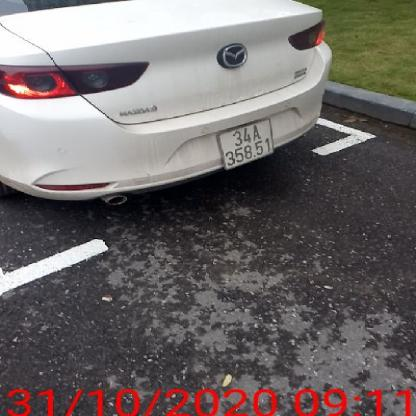biensoxe: (215, 124, 283, 166)
